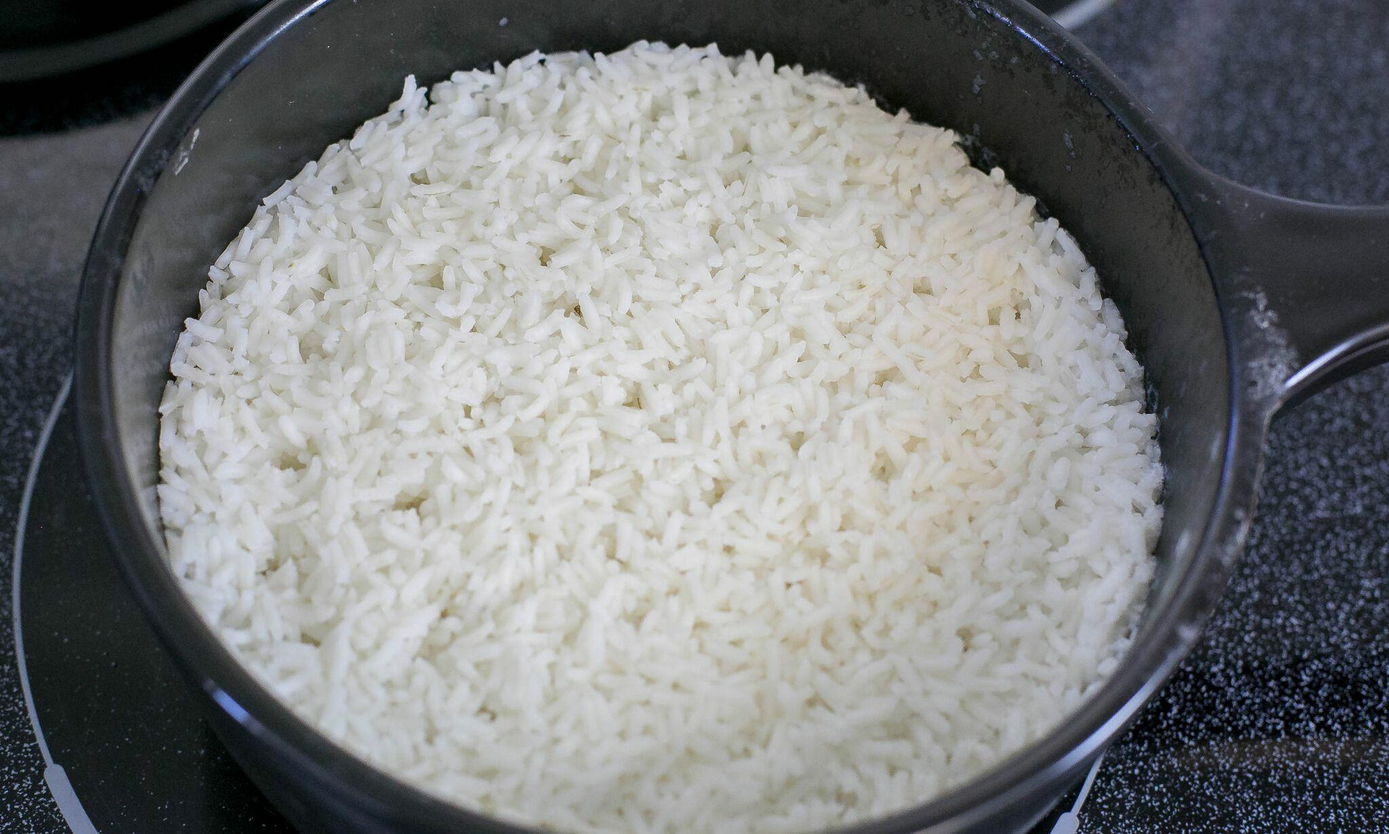WhiteRice: (146, 39, 1165, 834)
